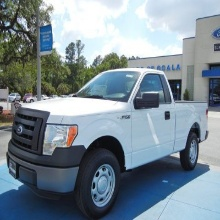no damage: (6, 67, 209, 220)
